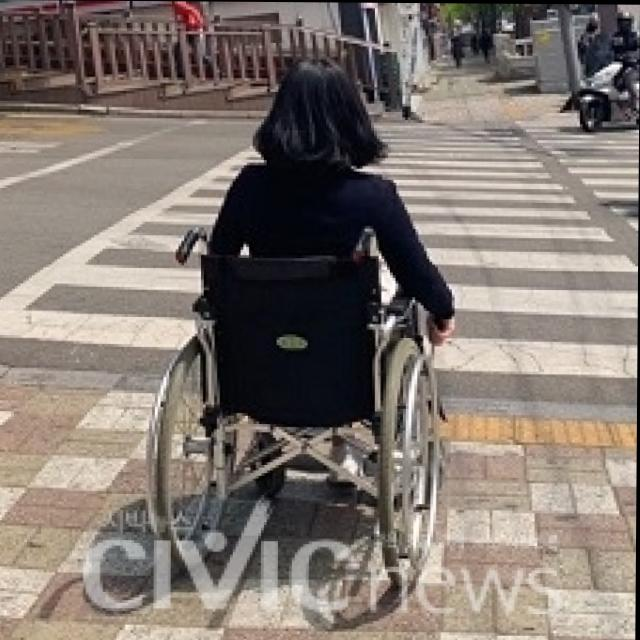wheelchair: (146, 60, 455, 577)
